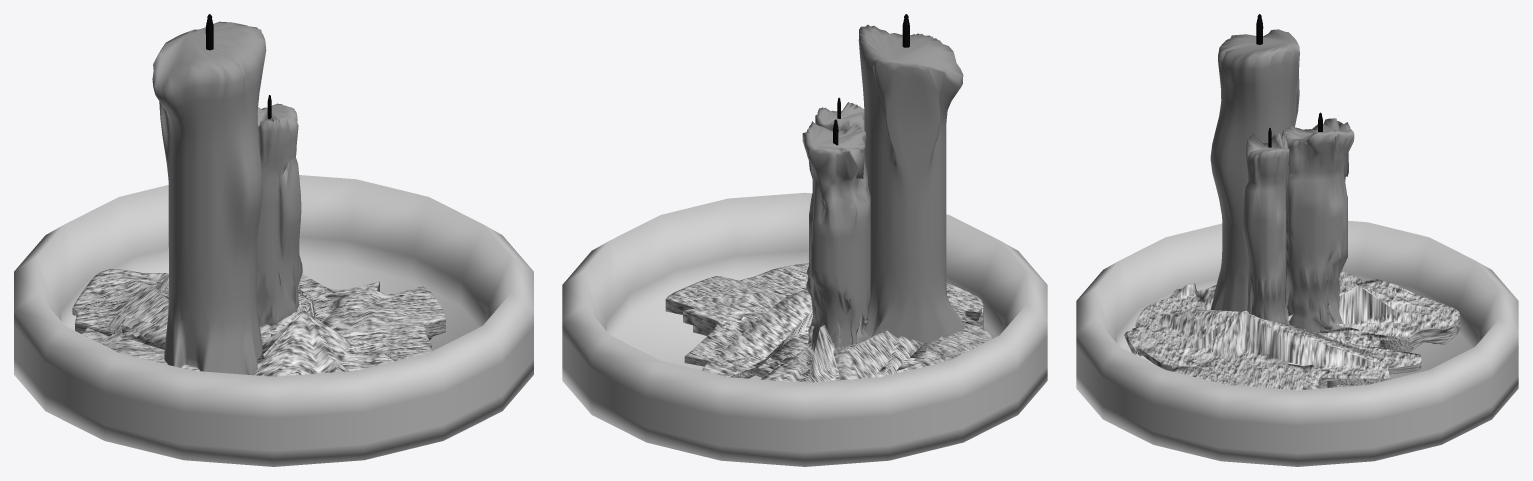
The model's file is Candle.FBX.
3 views of the same model, side by side, from view 1: azimuth 30°, elevation 25°; view 2: azimuth 150°, elevation 25°; view 3: azimuth 270°, elevation 25° (orthographic). The views are drawn at different scales.
Parts seen in each view (by area): view 1: Cylinder001, Cylinder002, Cylinder009, Cylinder003; view 2: Cylinder001, Cylinder002, Cylinder009, Cylinder004, Cylinder003; view 3: Cylinder001, Cylinder009, Cylinder002, Cylinder004, Cylinder003.
Boxes of the visible parts, <box> form: Cylinder001: <box>14,175,533,466</box>; Cylinder002: <box>152,21,266,375</box>; Cylinder009: <box>72,269,445,376</box>; Cylinder003: <box>256,103,302,330</box>; Cylinder001: <box>562,192,1047,466</box>; Cylinder002: <box>858,24,966,345</box>; Cylinder009: <box>665,263,991,382</box>; Cylinder004: <box>802,121,870,352</box>; Cylinder003: <box>812,102,864,319</box>; Cylinder001: <box>1076,220,1518,466</box>; Cylinder009: <box>1124,271,1460,390</box>; Cylinder002: <box>1210,29,1299,311</box>; Cylinder004: <box>1282,118,1354,331</box>; Cylinder003: <box>1242,133,1289,324</box>.
Size of the model in its own units: 52.75 by 44.65 by 51.95.
